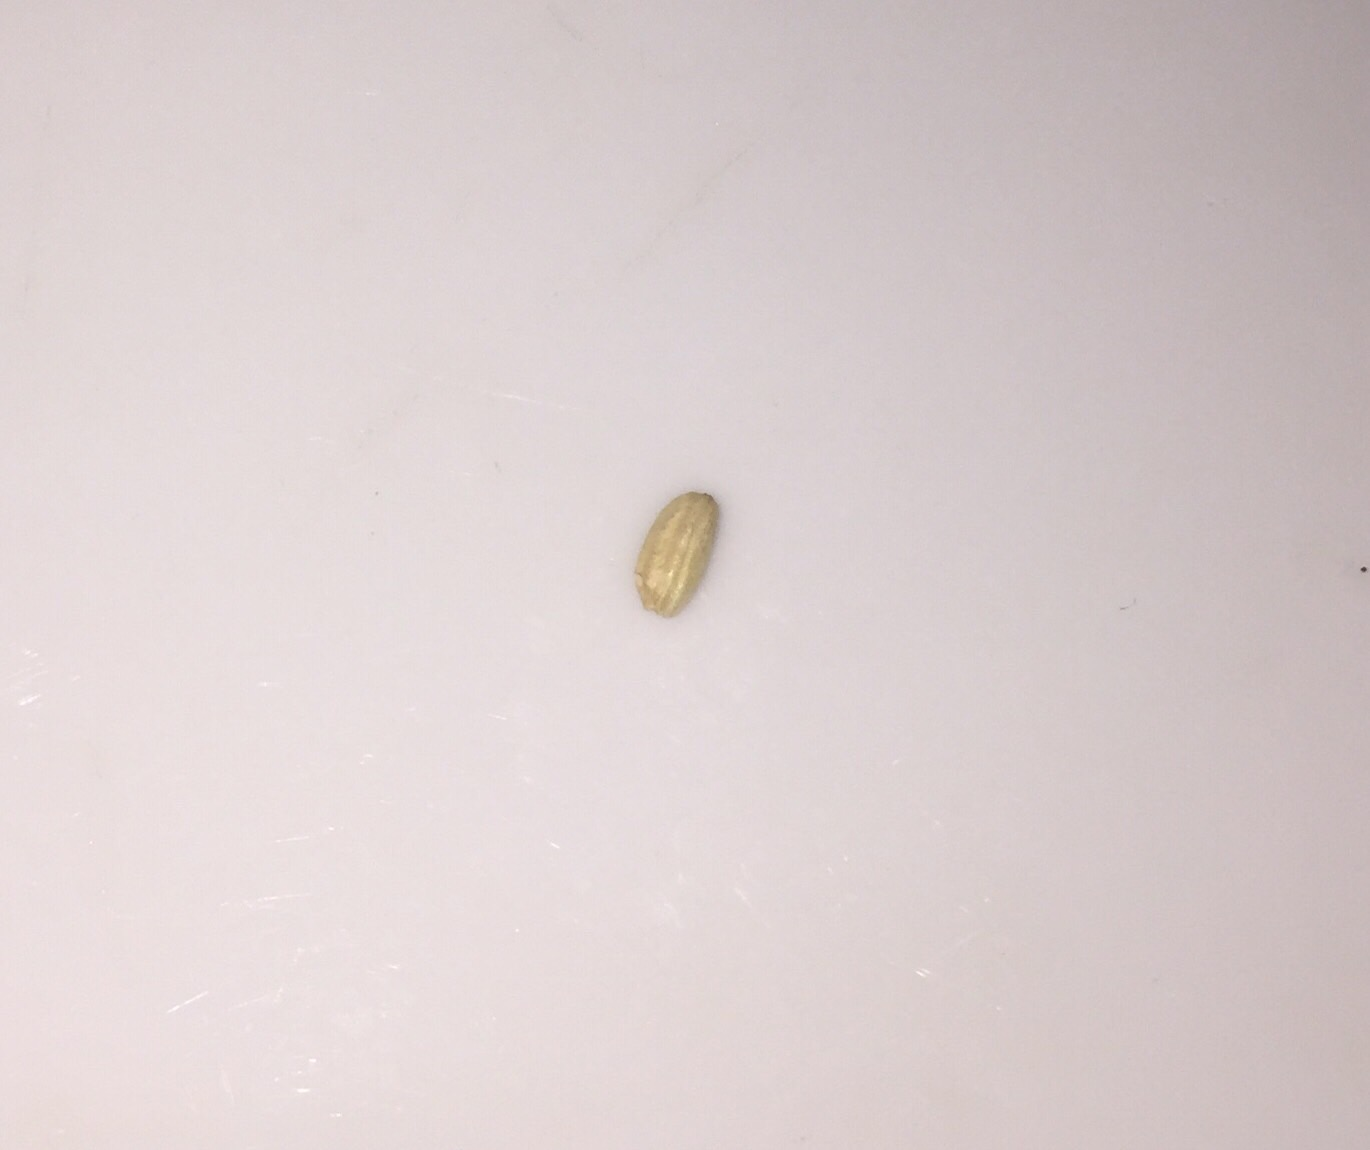Gao Lut Bac: (629, 480, 733, 622)
